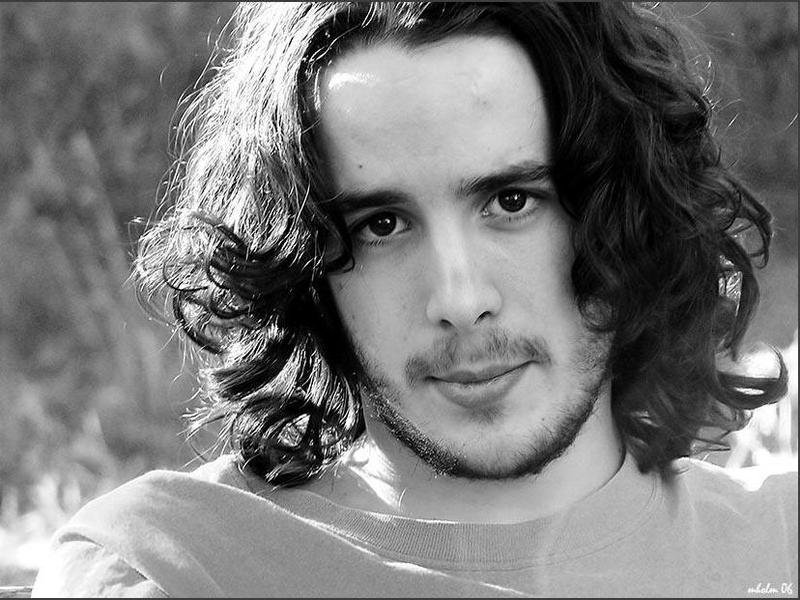person: (34, 1, 798, 598)
